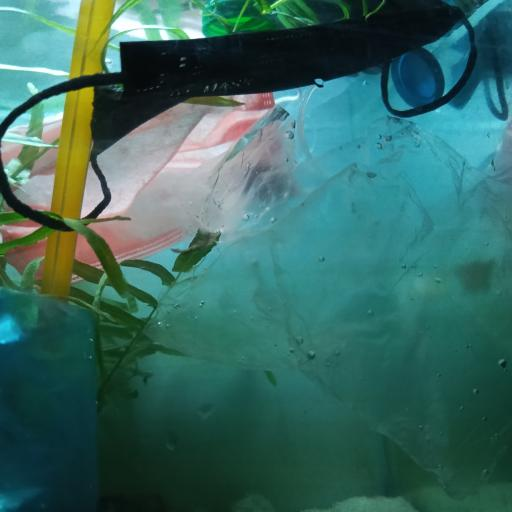bottle_cap: (394, 44, 446, 107)
mask: (0, 0, 480, 234), (0, 86, 291, 293)
plastic_bag: (146, 99, 512, 512), (0, 283, 101, 512)
plastic_straw: (38, 0, 116, 301)
